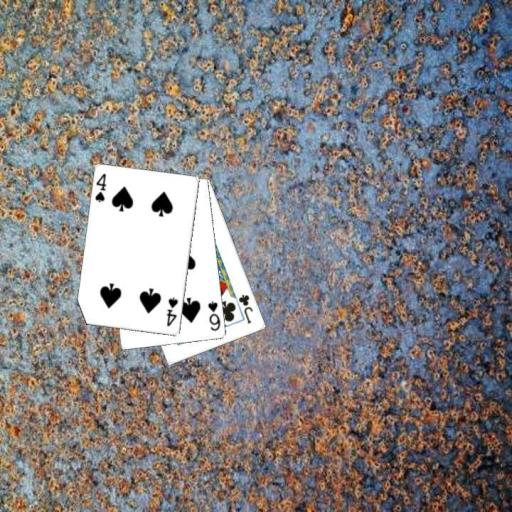4S: (163, 294, 180, 328), (92, 171, 108, 204)
6S: (205, 298, 222, 332)
JC: (236, 292, 255, 325)
